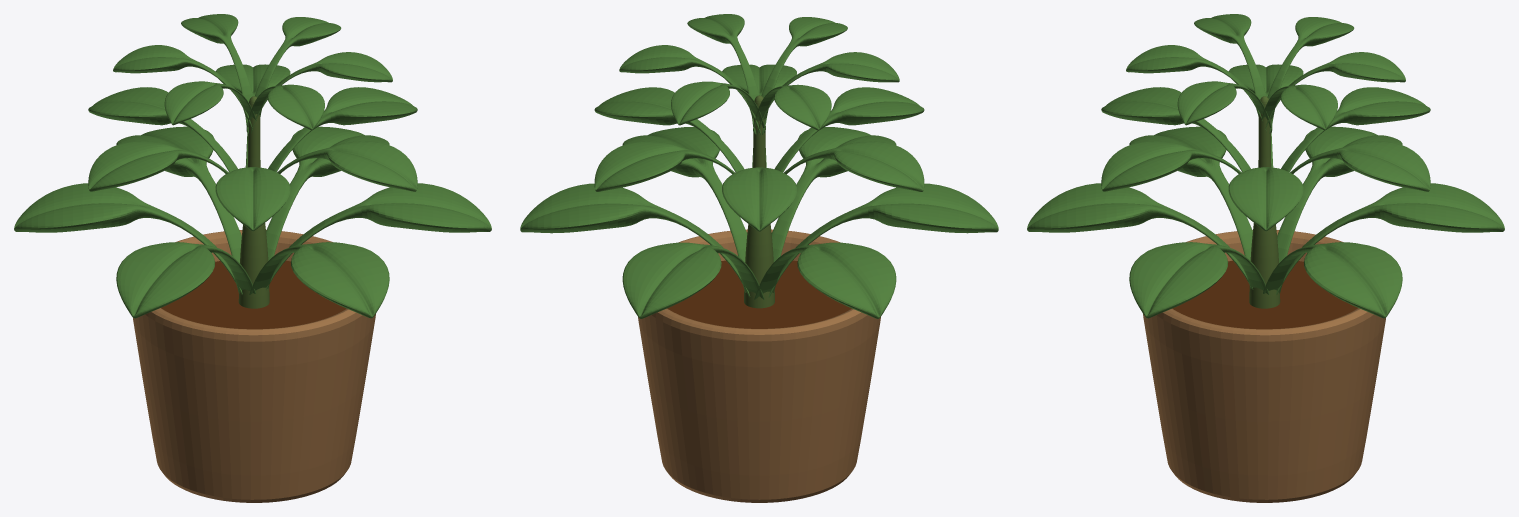
Rendered from plant.fbx.
The picture shows the model from 3 angles, left to right: view 1: azimuth 30°, elevation 25°; view 2: azimuth 150°, elevation 25°; view 3: azimuth 270°, elevation 25°; orthographic projection.
Parts seen in each view (by area): view 1: Plane.001; view 2: Plane.001; view 3: Plane.001.
Part boxes in pixels (x1,y1,x2,y2): Plane.001: (14,14,491,502); Plane.001: (520,14,998,502); Plane.001: (1027,14,1504,502).
Size of the model in its own units: 77.04 by 82.69 by 88.39.
